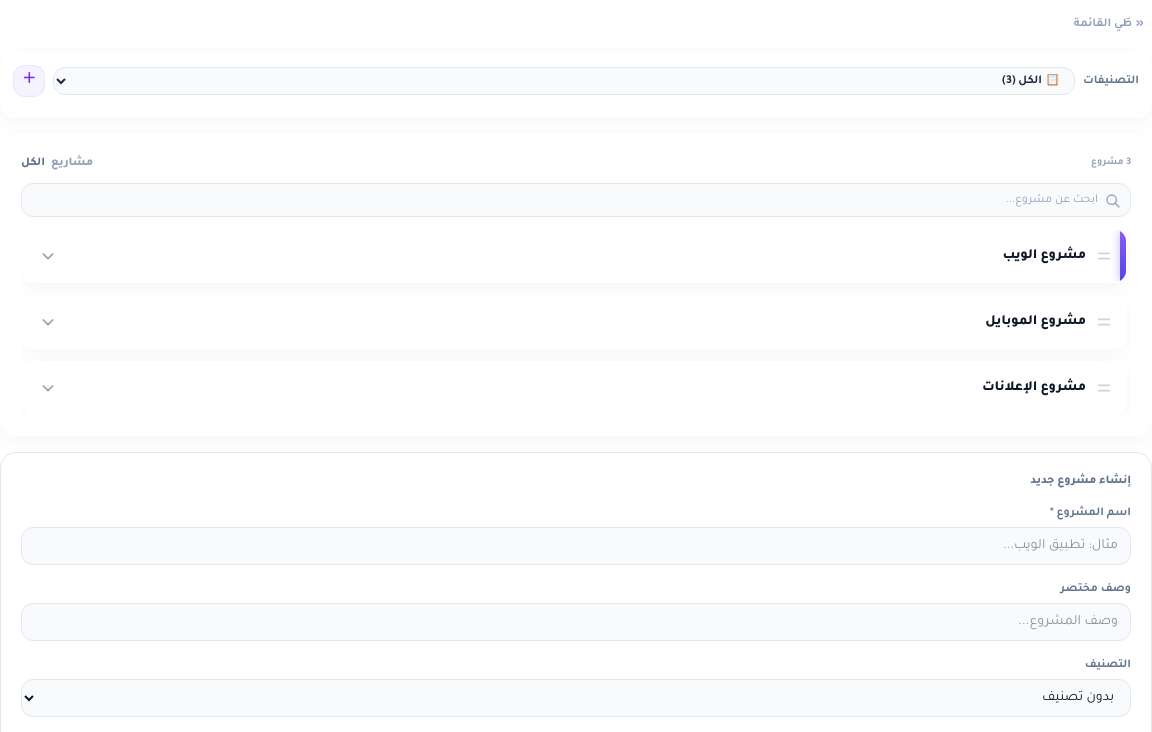
Test case: ProjectPanel.vue Component Tests › filters projects in real-time when typing in project search input
This screenshot has width=1152, height=732.
Type "موبايل" into the field with placeholder "ابحث عن مشروع..." at (576, 200), box [21,183,1131,217]
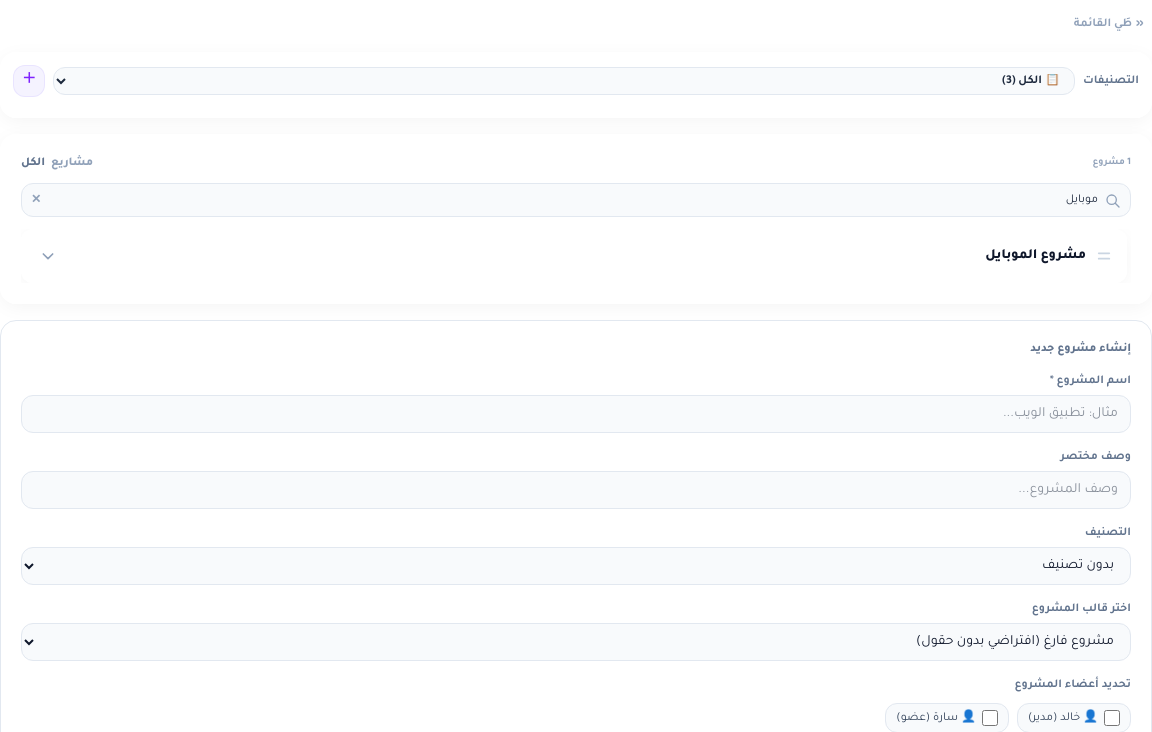
Expected: the text "مشروع الموبايل" is shown, [985,246,1086,266]
Result: the text "مشروع الإعلانات" is gone
